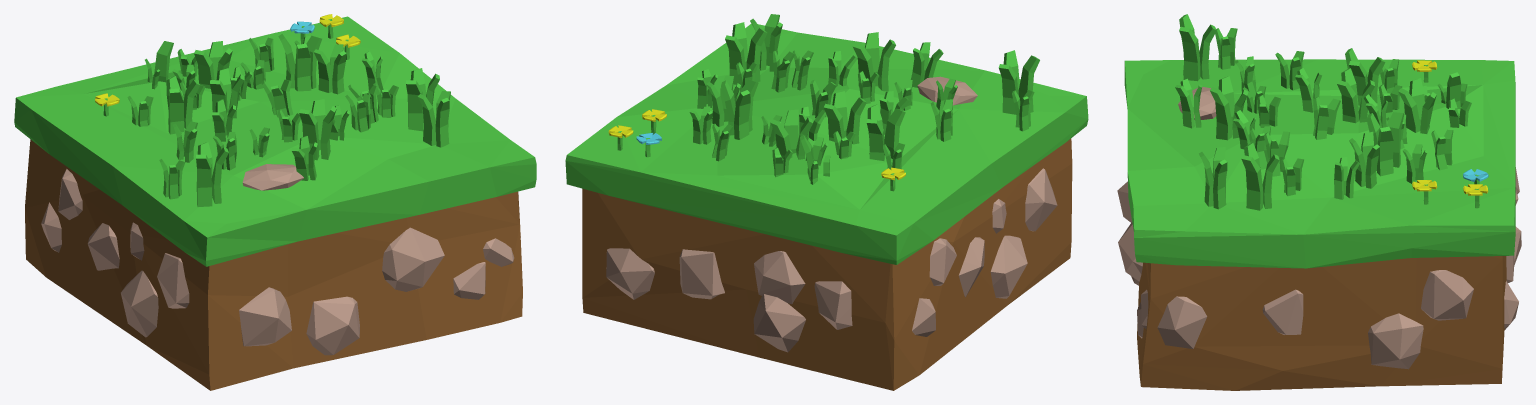
File: GenericTile4.fbx
3 renders of one model, left to right at view 1: azimuth 30°, elevation 25°; view 2: azimuth 150°, elevation 25°; view 3: azimuth 270°, elevation 25°, orthographic. The views are drawn at different scales.
Visible parts, largest first — view 1: Ground, Grass Blades, Rocks, Sphere; view 2: Ground, Grass Blades, Rocks, Sphere; view 3: Ground, Grass Blades, Rocks, Sphere.
Boxes of the visible parts, bbox=[...] form: Ground: bbox=[14, 16, 536, 390]; Grass Blades: bbox=[127, 34, 450, 206]; Rocks: bbox=[41, 169, 520, 355]; Sphere: bbox=[242, 164, 303, 190]; Ground: bbox=[565, 23, 1088, 390]; Grass Blades: bbox=[689, 14, 1039, 184]; Rocks: bbox=[606, 168, 1057, 352]; Sphere: bbox=[917, 76, 977, 105]; Ground: bbox=[1124, 59, 1515, 390]; Grass Blades: bbox=[1175, 14, 1471, 210]; Rocks: bbox=[1117, 167, 1521, 369]; Sphere: bbox=[1178, 87, 1216, 119].
Size of the model in its own units: 219 by 134 by 218.
